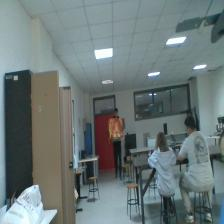fire-poster: (109, 119, 123, 138)
